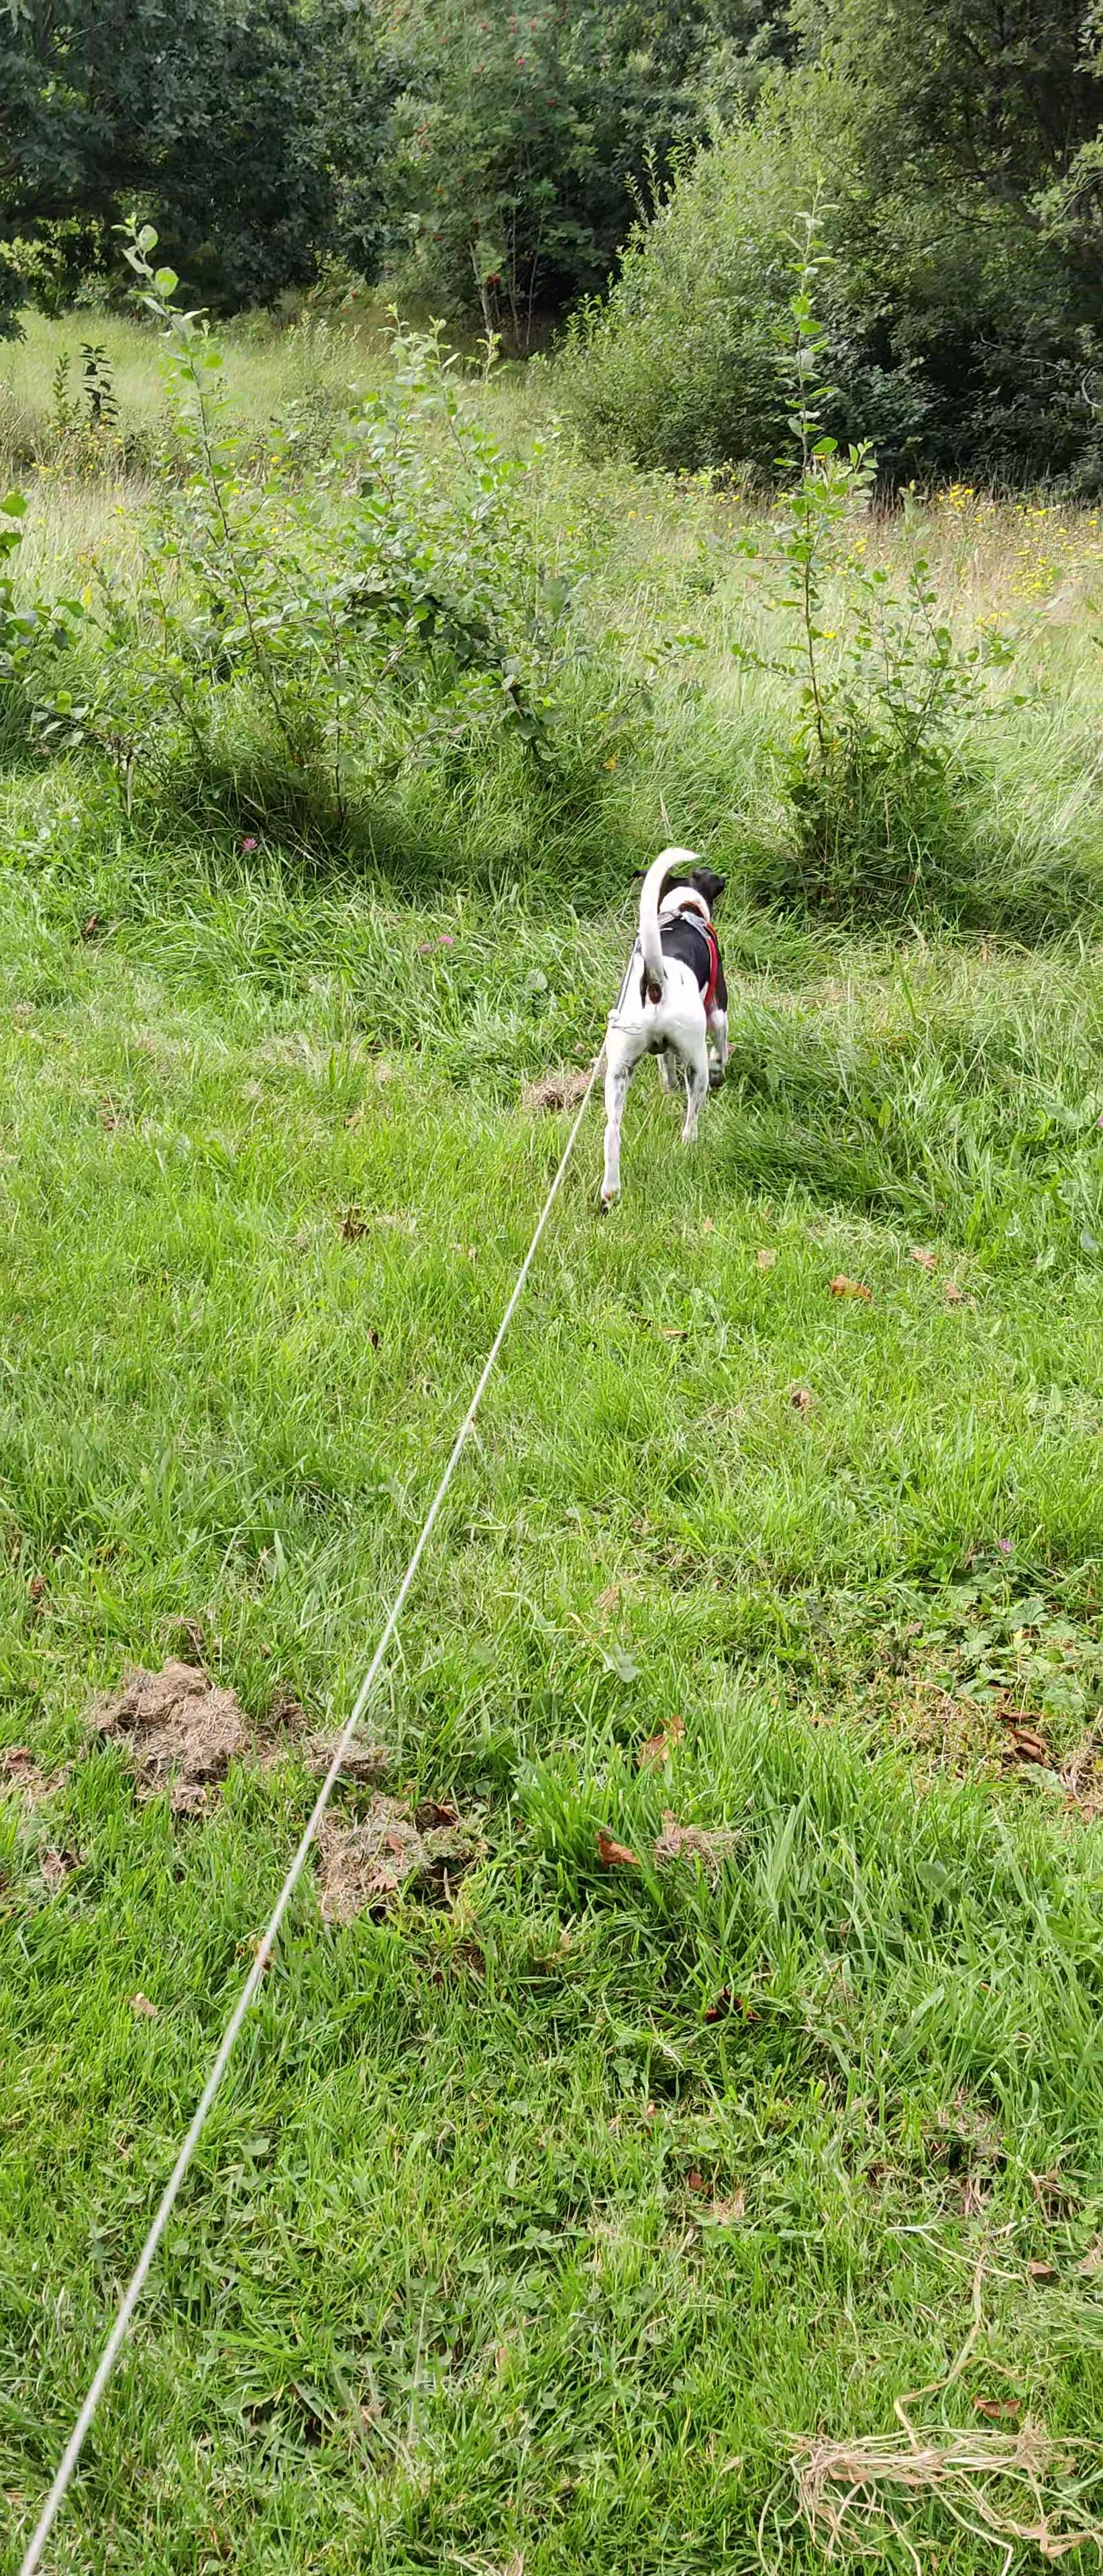Dog: (587, 838, 740, 1222)
